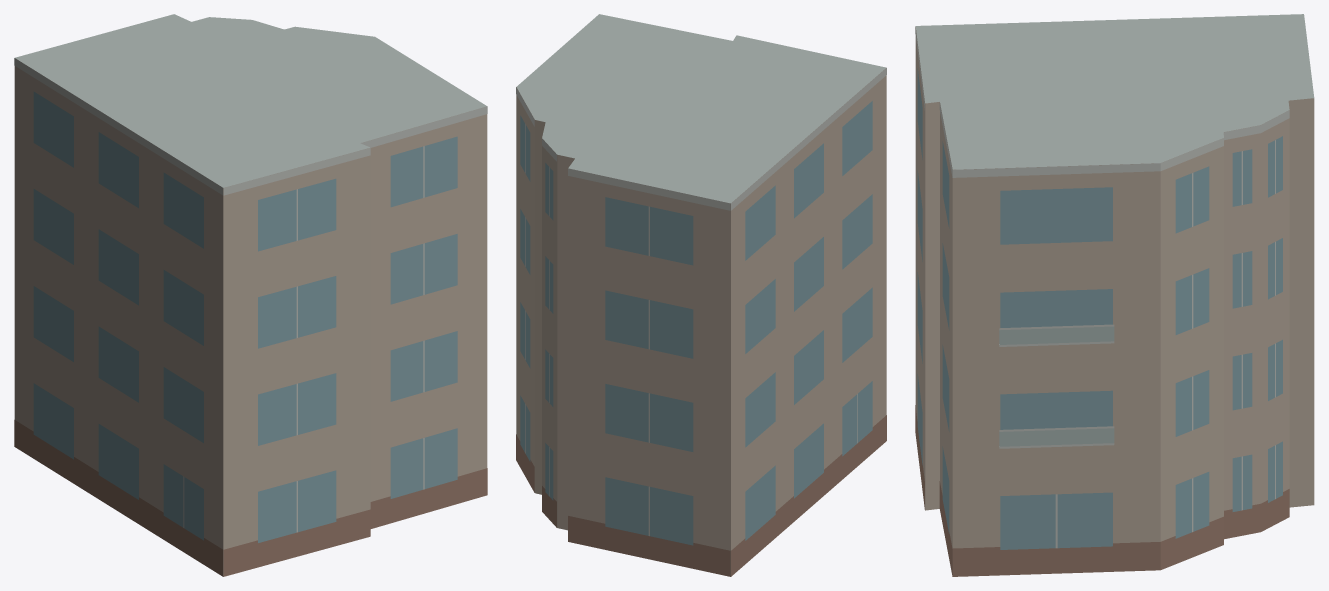
Rendered from survey-upis-32705349.glb.
3 renders of one model, left to right at view 1: azimuth 30°, elevation 25°; view 2: azimuth 150°, elevation 25°; view 3: azimuth 270°, elevation 25°, orthographic. The views are drawn at different scales.
Parts seen in each view (by area): view 1: survey-upis-32705349.tmp; view 2: survey-upis-32705349.tmp; view 3: survey-upis-32705349.tmp.
Part boxes in pixels (x1,y1,x2,y2): survey-upis-32705349.tmp: (14,14,487,576); survey-upis-32705349.tmp: (516,14,886,576); survey-upis-32705349.tmp: (915,14,1314,576).
Size of the model in its own units: 10.02 by 12.2 by 10.84.
